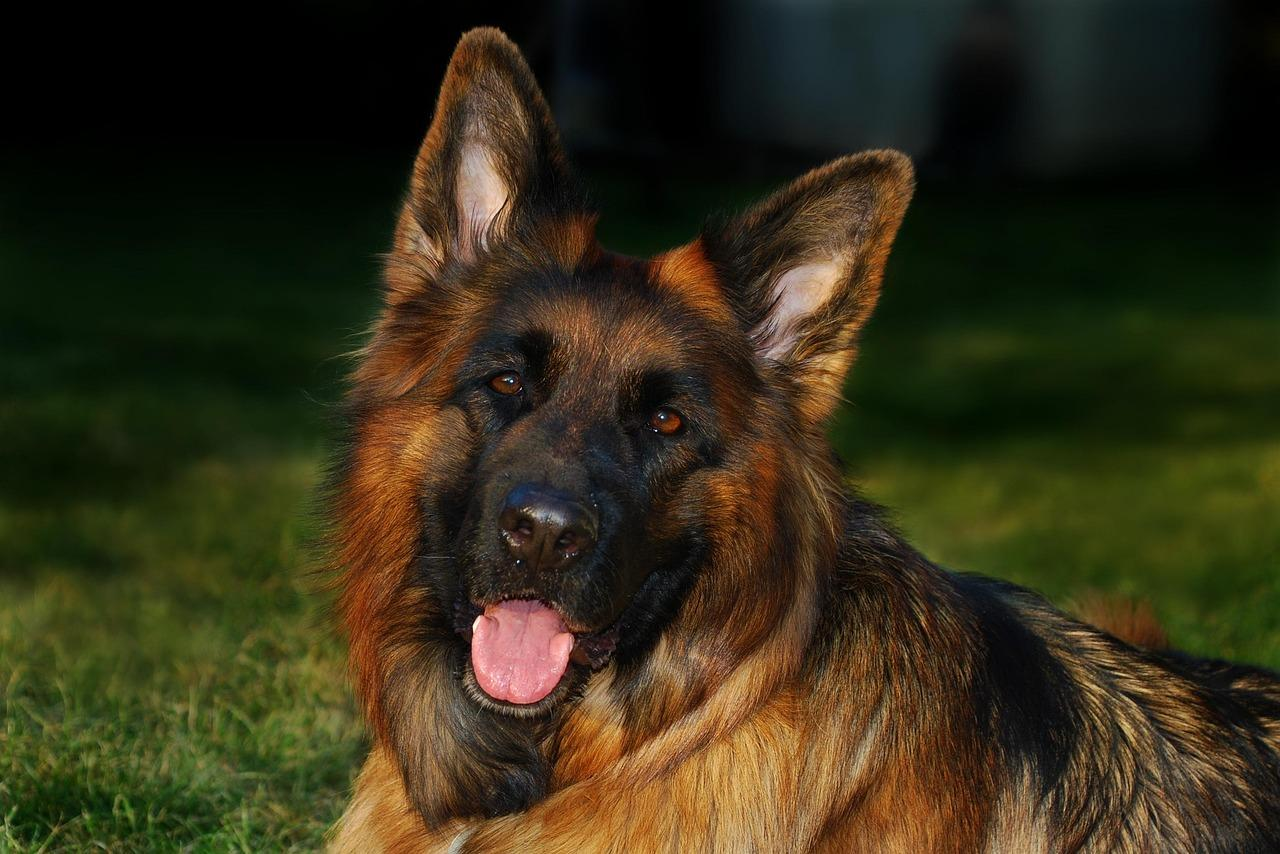german_shepherd: (250, 140, 931, 758)
